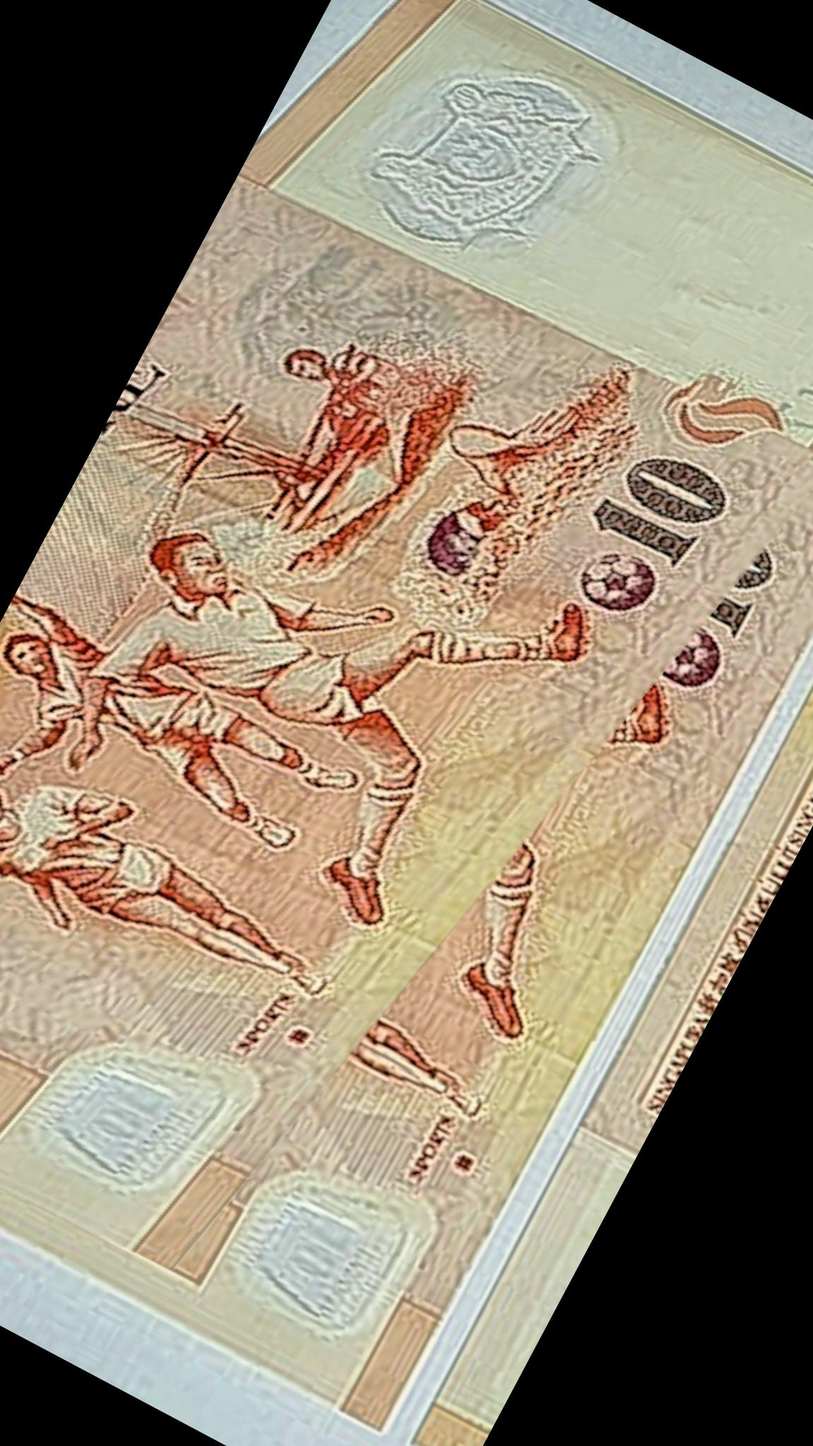10SingaporeDollar: (0, 0, 813, 1426)
